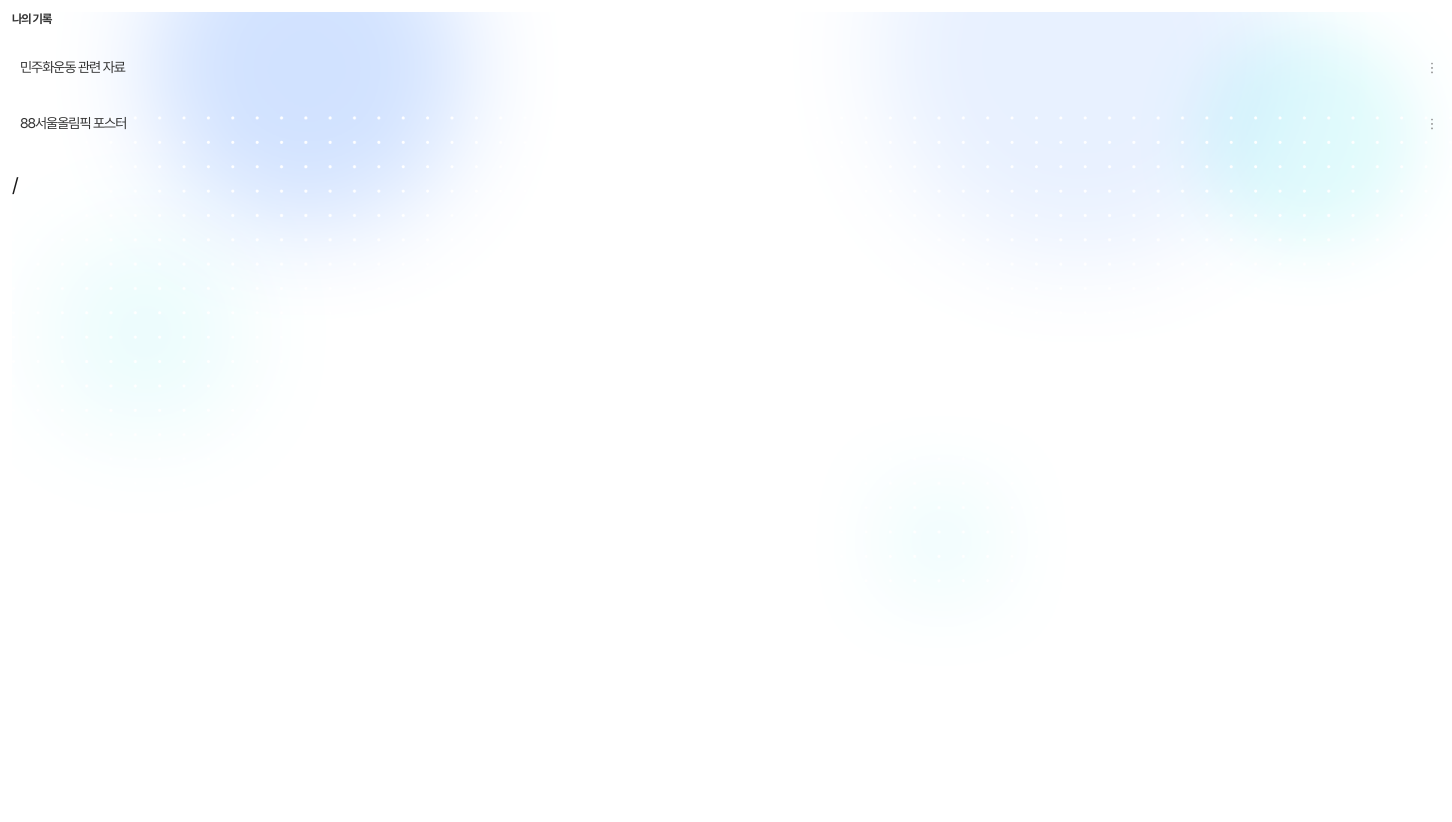
Scenario: (b) 항목 클릭: resumeConversation 성공 시 재개 후 /search/results?c=id 로 이동한다
This screenshot has width=1452, height=822.
Click the button "민주화운동 관련 자료".
click(72, 67)  # box [20,57,1412,78]
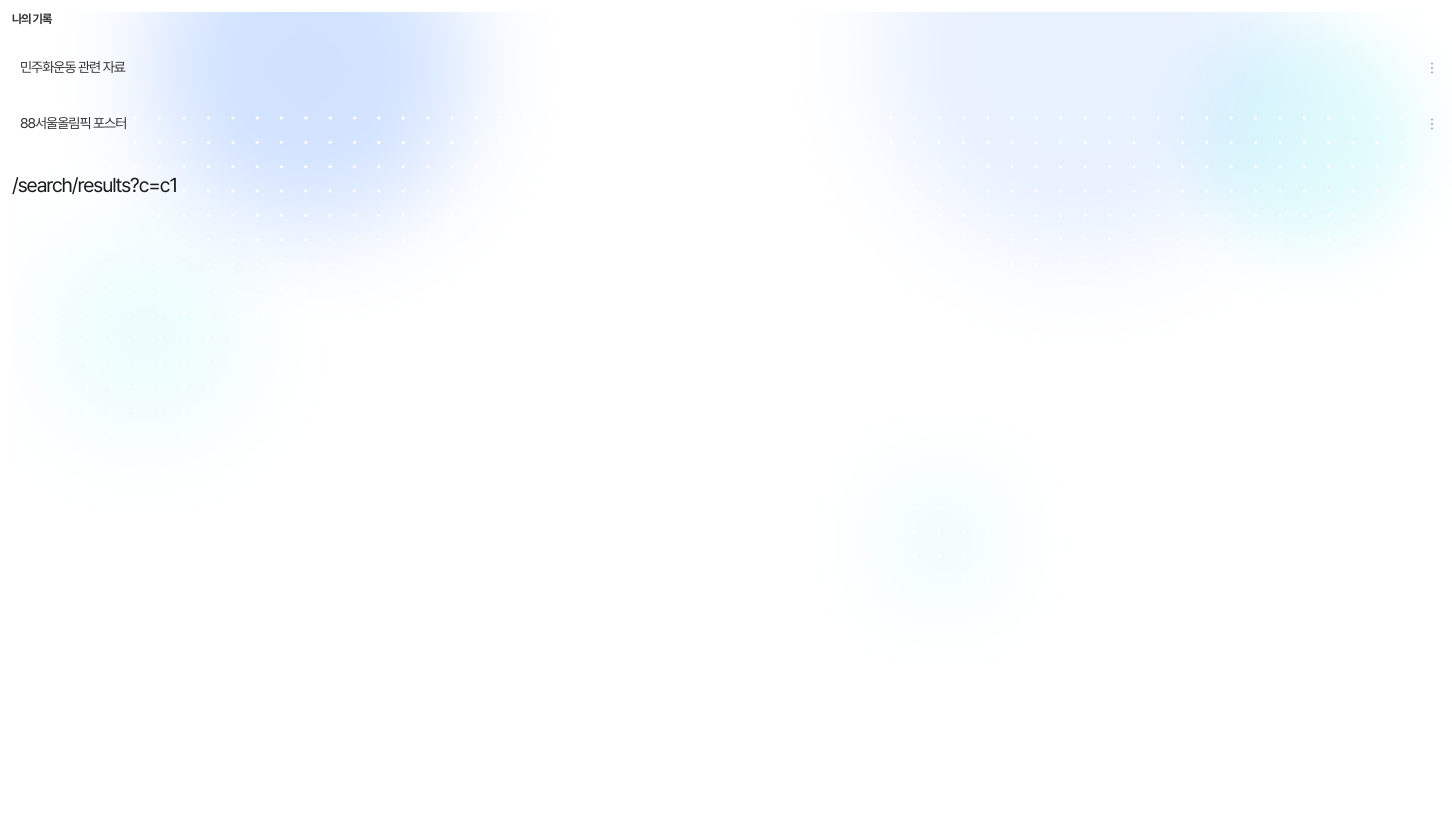
Now the text with test id "probe" reads "/search/results?c=c1", box [12,173,177,197]
